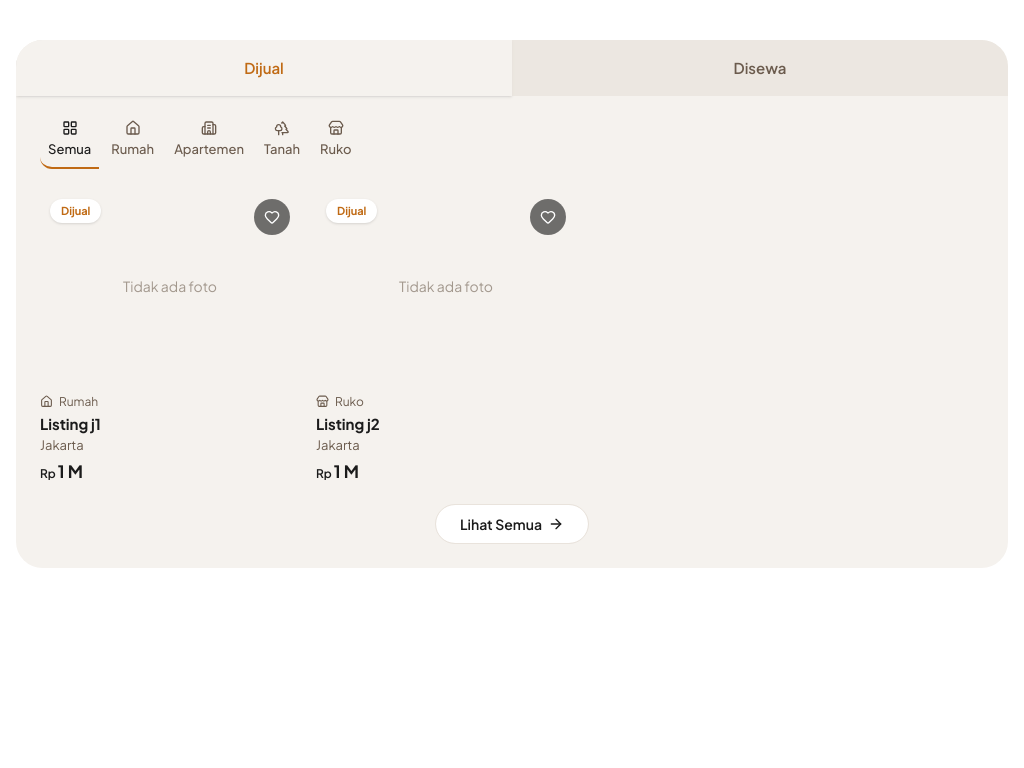
Test: ListingPanel › says so, and links to the catalog, when a combination has nothing
Click the radio button labelled "Tanah". click: (282, 142)
box: x1=256 y1=116 x2=308 y2=169
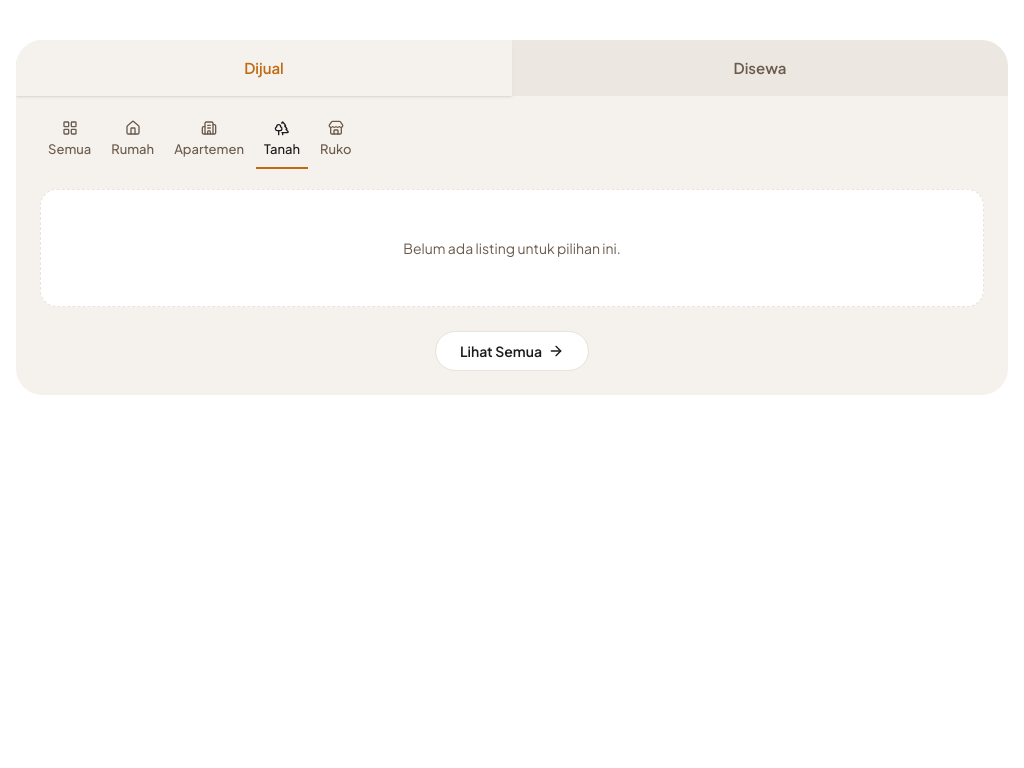
Now the text "Belum ada listing untuk pilihan ini." is shown, box x1=40 y1=189 x2=984 y2=307
